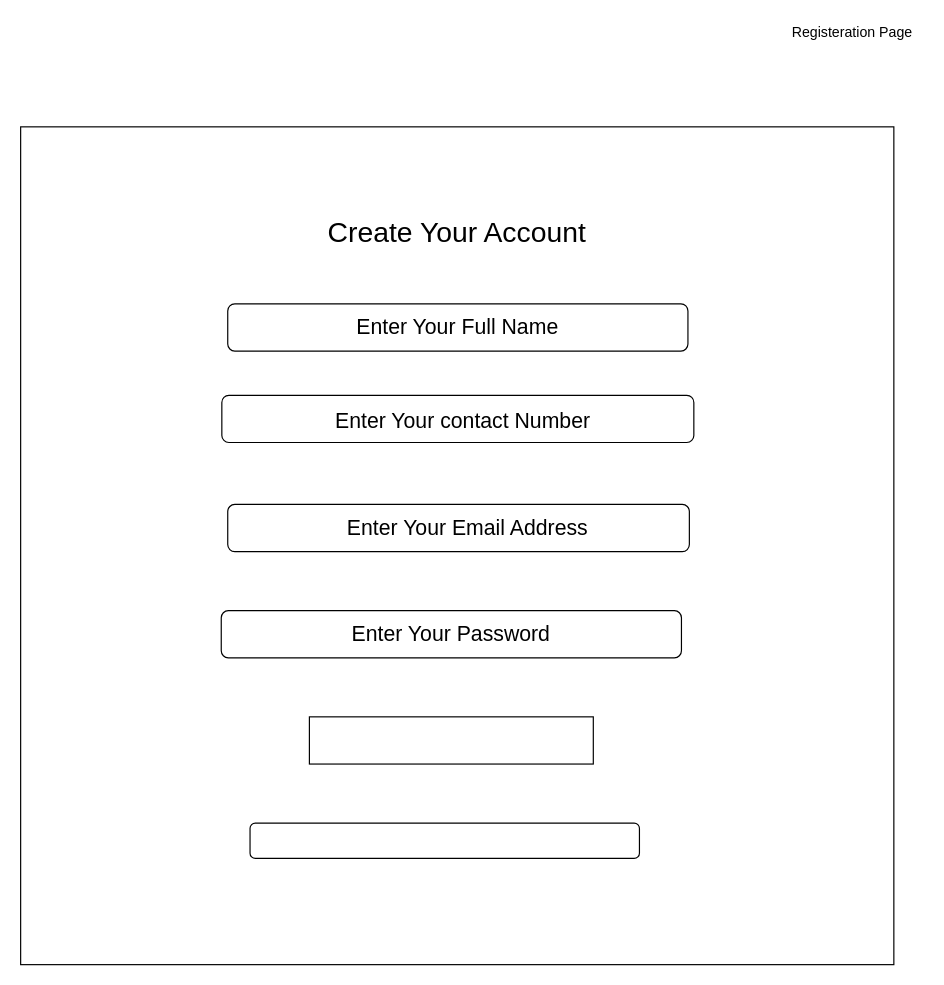
The diagram is 944 pixels wide and 985 high, and some of its shapes have lost their labels. The centre of each missing label's shape, as x and y in pixels:
"Already have an account ? Sign In" goes at (444,840).
"Register" goes at (450,740).
